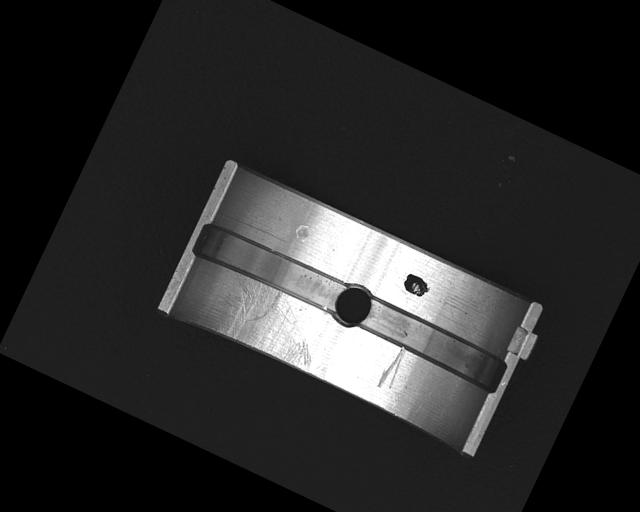blot: (400, 270, 434, 300)
bruise: (292, 222, 312, 243)
gap: (189, 217, 349, 321), (359, 297, 510, 393)
hole: (327, 277, 379, 333)
nick: (374, 341, 411, 393)
scratch: (213, 272, 334, 375)
